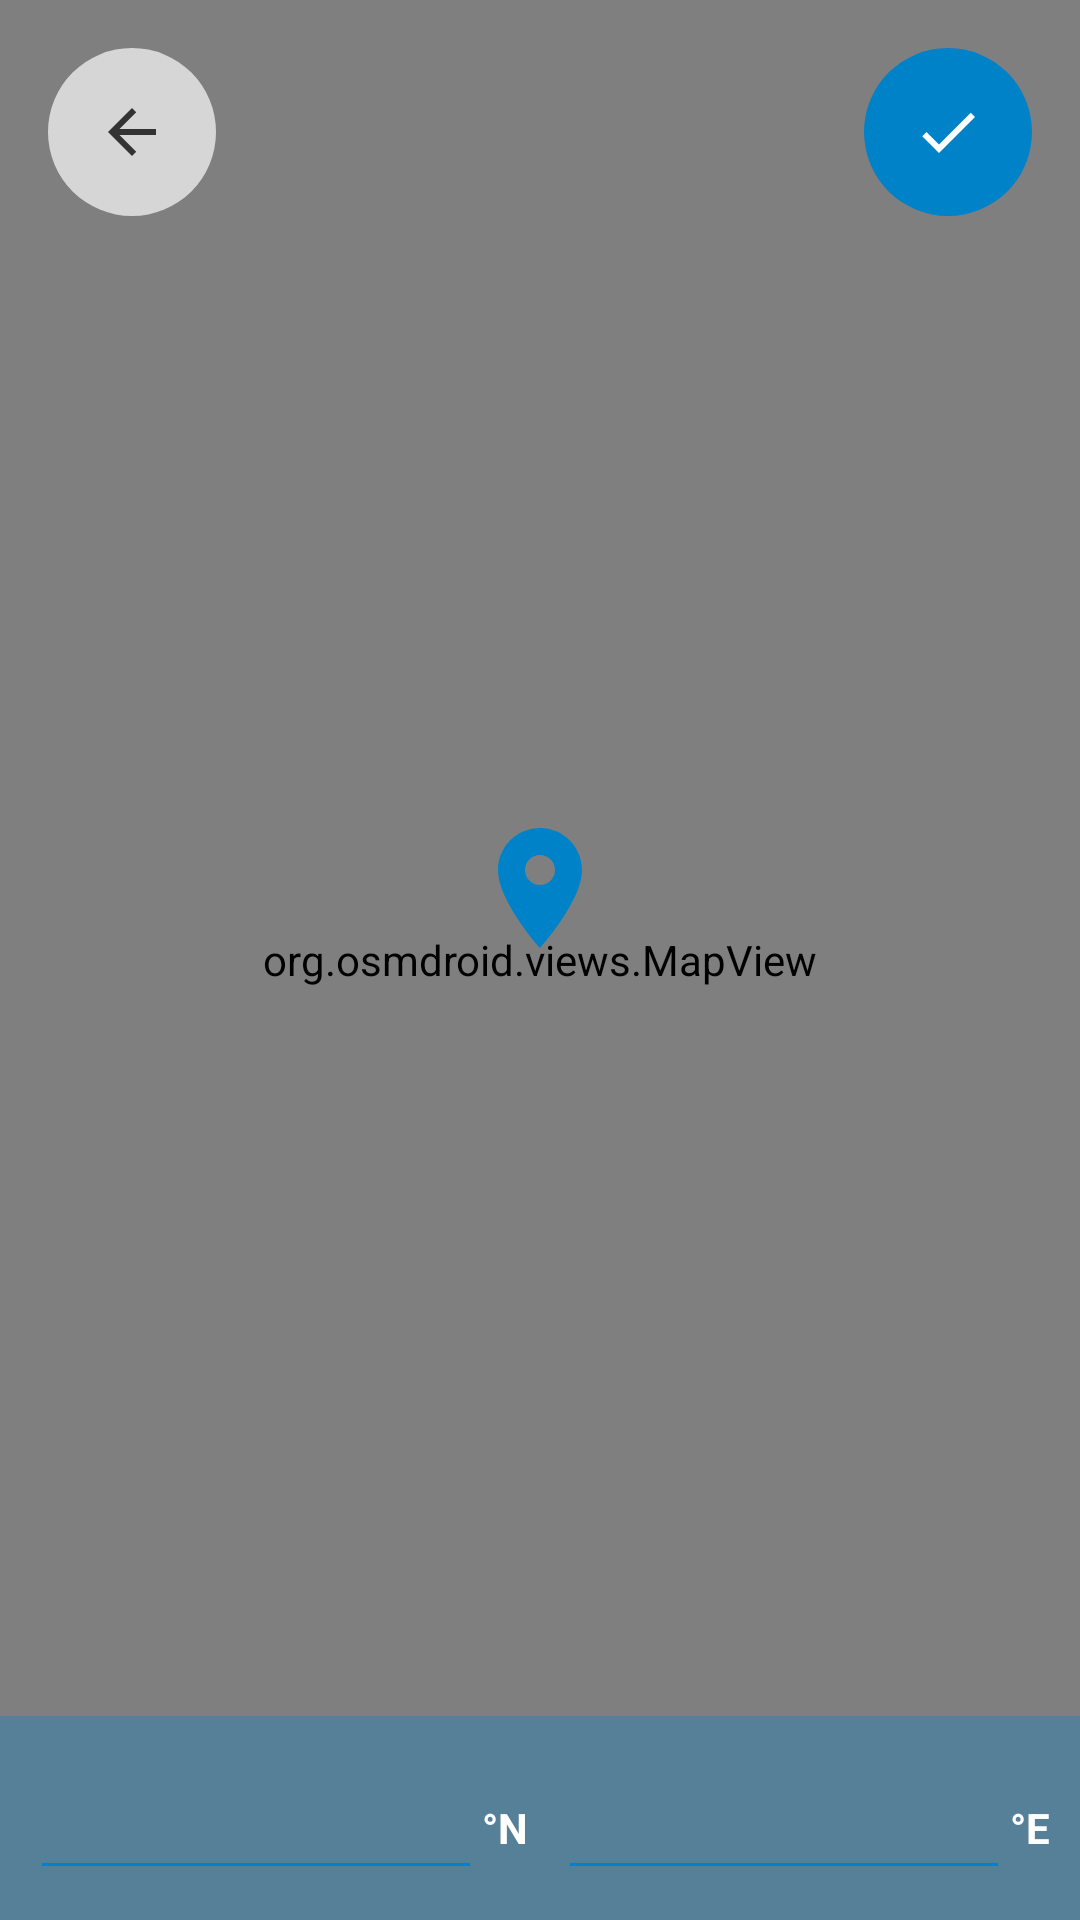

Named icons in this screenshot (1080w x 1920h) and their bounding boxes, {"x1": x1, "y1": y1, "x2": x2, "y2": y2}:
back: {"x1": 48, "y1": 48, "x2": 216, "y2": 216}
map pin: {"x1": 483, "y1": 828, "x2": 582, "y2": 950}
